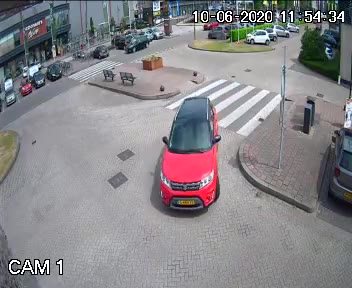car: (154, 93, 224, 219), (120, 32, 149, 55), (196, 17, 217, 31)
